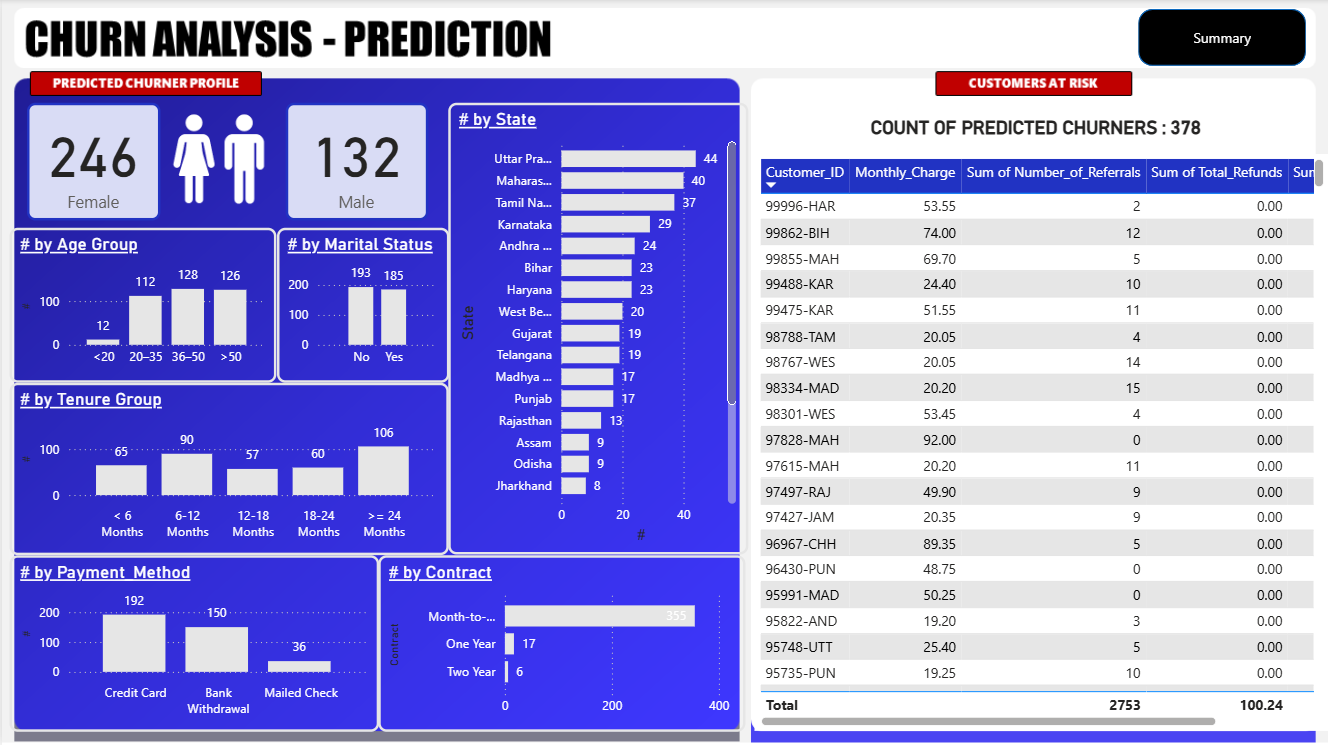

The dashboard page shown, as its layout file describes it:
{"tool":"powerbi","page":{"name":"Churn Prediction","canvas":[1280,720],"ordinal":2},"visuals":[{"type":"tableEx","fields":{"Values":["prediction_results.Customer_ID","prediction_results.Monthly_Charge","Sum(prediction_results.Number_of_Referrals)","Sum(prediction_results.Total_Refunds)","Sum(prediction_results.Total_Revenue)"]},"box":[725.9,149.6,554.4,557.1],"z":0},{"type":"card","fields":{"Values":["tb_measures.Title Predicted Churners"]},"box":[725.9,100.2,543.4,49.4],"z":1000},{"type":"card","fields":{"Values":["tb_measures.Count Predicted Churner"]},"box":[24.7,100.2,129,113.9],"z":2000},{"type":"card","fields":{"Values":["tb_measures.Count Predicted Churner"]},"box":[274.4,100.2,137.2,113.9],"z":3000},{"type":"clusteredColumnChart","fields":{"Y":["CountNonNull(prediction_results.Customer_ID)"],"Category":["mapping_agegrp.Age Group"]},"box":[6.9,220.9,258,149.6],"z":4000},{"type":"clusteredColumnChart","fields":{"Y":["CountNonNull(prediction_results.Customer_ID)"],"Category":["prediction_results.Married"]},"box":[264.8,220.9,166,149.6],"z":5000},{"type":"clusteredColumnChart","fields":{"Y":["CountNonNull(prediction_results.Customer_ID)"],"Category":["mapping_tenuregrp.Tenure Group"]},"box":[6.9,370.5,424,166],"z":6000},{"type":"clusteredColumnChart","fields":{"Category":["prediction_results.Payment_Method"],"Y":["CountNonNull(prediction_results.Customer_ID)"]},"box":[6.9,536.5,356.8,170.2],"z":7000},{"type":"clusteredBarChart","fields":{"Y":["CountNonNull(prediction_results.Customer_ID)"],"Category":["prediction_results.Contract"]},"box":[363.6,536.5,354,170.2],"z":8000},{"type":"clusteredBarChart","fields":{"Y":["CountNonNull(prediction_results.Customer_ID)"],"Category":["prediction_results.State"]},"box":[430.9,100.2,289.5,436.4],"z":9000},{"type":"image","box":[124.9,94.7,167.4,119.4],"z":10000},{"type":"shape","box":[1096.4,9.6,161.9,54.9],"z":11000}]}

Visuals, with their boxes in screenshot pixels (x1, y1, x2, y2), scaled from the page's 1280x720 canvas onto the 1328x745 screenshot:
tableEx - prediction_results.Customer_ID x prediction_results.Monthly_Charge: [left=753, top=155, right=1327, bottom=731]
card - tb_measures.Title Predicted Churners: [left=753, top=104, right=1317, bottom=155]
card - tb_measures.Count Predicted Churner: [left=26, top=104, right=159, bottom=222]
card - tb_measures.Count Predicted Churner: [left=285, top=104, right=427, bottom=222]
clusteredColumnChart - CountNonNull(prediction_results.Customer_ID) x mapping_agegrp.Age Group: [left=7, top=229, right=275, bottom=383]
clusteredColumnChart - CountNonNull(prediction_results.Customer_ID) x prediction_results.Married: [left=275, top=229, right=447, bottom=383]
clusteredColumnChart - CountNonNull(prediction_results.Customer_ID) x mapping_tenuregrp.Tenure Group: [left=7, top=383, right=447, bottom=555]
clusteredColumnChart - prediction_results.Payment_Method x CountNonNull(prediction_results.Customer_ID): [left=7, top=555, right=377, bottom=731]
clusteredBarChart - CountNonNull(prediction_results.Customer_ID) x prediction_results.Contract: [left=377, top=555, right=745, bottom=731]
clusteredBarChart - CountNonNull(prediction_results.Customer_ID) x prediction_results.State: [left=447, top=104, right=747, bottom=555]
image: [left=130, top=98, right=303, bottom=222]
shape: [left=1138, top=10, right=1305, bottom=67]
